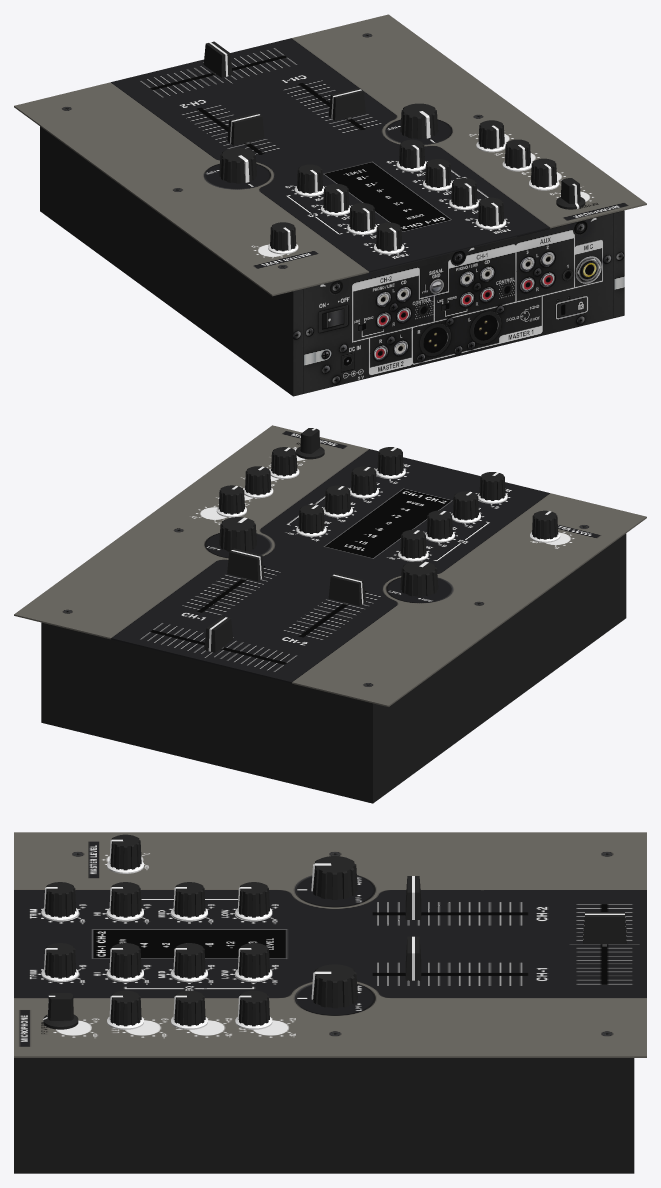
Rendered from Mixer250.FBX.
3 views of the same model, one above another, from view 1: azimuth 30°, elevation 25°; view 2: azimuth 150°, elevation 25°; view 3: azimuth 270°, elevation 25° (orthographic). The views are drawn at different scales.
Parts seen in each view (by area): view 1: Body, Mic_Aux (×2), Filter_CH1, Filter_CH2, Fader_CH1, Fader_CH2, Trim_CH2, Trim_CH1, Master_Level, Low_Mic, Low_CH2, Low_CH1 (+6 smaller); view 2: Body, Mic_Aux (×2), Filter_CH2, Filter_CH1, Fader_CH2, Fader_CH1, Low_CH2, Low_Mic, Master_Level, Low_CH1, Mid_Mic, Mid_CH2 (+6 smaller); view 3: Body, Mic_Aux (×2), Filter_CH1, Filter_CH2, CrossFader, Low_Mic, Low_CH2, Trim_CH2, Low_CH1, Trim_CH1, Mid_Mic, High_CH1 (+6 smaller).
Boxes of the visible parts, x1,y1,x2,y2 form: Body: (14,14,646,396); Mic_Aux (×2): (529,158,585,209); Filter_CH1: (400,103,438,139); Filter_CH2: (219,147,256,183); Fader_CH1: (328,88,365,120); Fader_CH2: (227,112,264,145); Trim_CH2: (374,222,404,254); Trim_CH1: (476,197,506,229); Master_Level: (268,222,298,254); Low_Mic: (476,120,506,152); Low_CH2: (294,164,324,196); Low_CH1: (396,139,426,171); Body: (14,425,646,803); Mic_Aux (×2): (269,428,324,478); Filter_CH2: (400,561,438,596); Filter_CH1: (219,517,256,551); Fader_CH2: (328,573,365,605); Fader_CH1: (227,548,264,581); Low_CH2: (398,529,428,561); Low_Mic: (216,485,246,517); Master_Level: (530,510,560,542); Low_CH1: (296,505,326,536); Mid_Mic: (243,466,273,498); Mid_CH2: (425,510,454,542); Body: (14,832,646,1173); Mic_Aux (×2): (43,990,143,1029); Filter_CH1: (311,964,357,1008); Filter_CH2: (311,856,357,899); CrossFader: (583,912,626,946); Low_Mic: (235,990,272,1029); Low_CH2: (235,882,272,921); Trim_CH2: (41,882,78,921); Low_CH1: (235,943,272,982); Trim_CH1: (41,943,78,982); Mid_Mic: (171,990,207,1029); High_CH1: (107,943,143,982).
Size of the model in its own units: 31.6 by 10.55 by 37.75.
